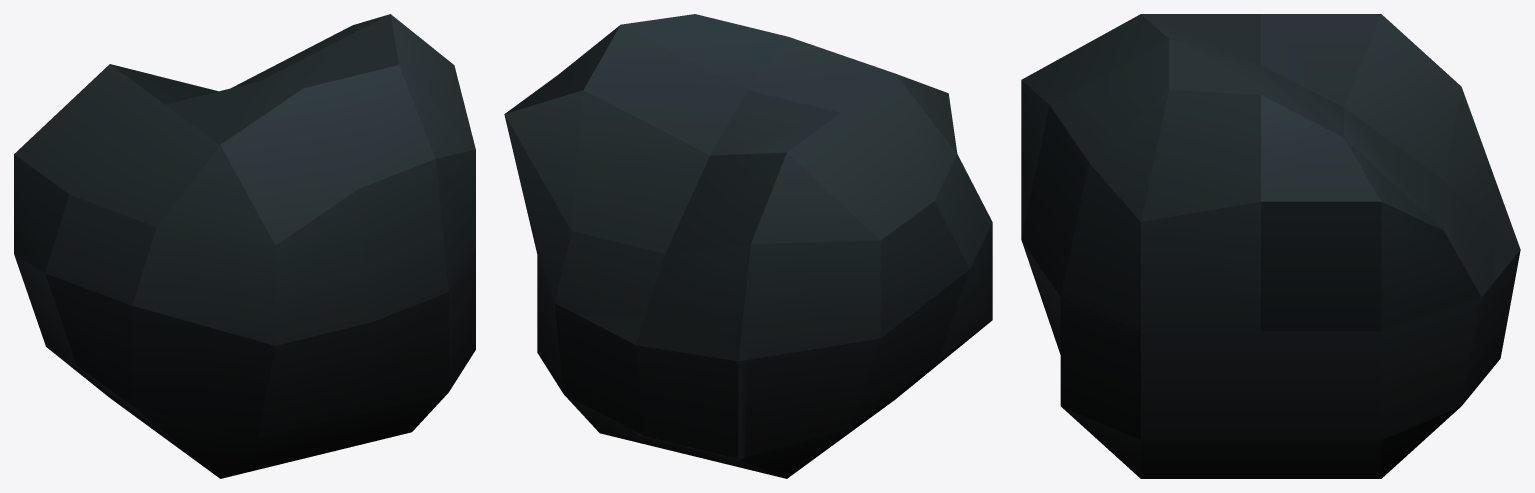
File: coal.obj
3 renders of one model, left to right at view 1: azimuth 30°, elevation 25°; view 2: azimuth 150°, elevation 25°; view 3: azimuth 270°, elevation 25°, orthographic. The views are drawn at different scales.
Visible parts, largest first — view 1: beveled_cuboid; view 2: beveled_cuboid; view 3: beveled_cuboid.
Part boxes in pixels (x1=…): beveled_cuboid: x1=14, y1=14, x2=475, y2=478; beveled_cuboid: x1=504, y1=14, x2=992, y2=478; beveled_cuboid: x1=1021, y1=14, x2=1520, y2=478.
Size of the model in its own units: 0.4065 by 0.3456 by 0.3892.
1 material, 1 textured.
